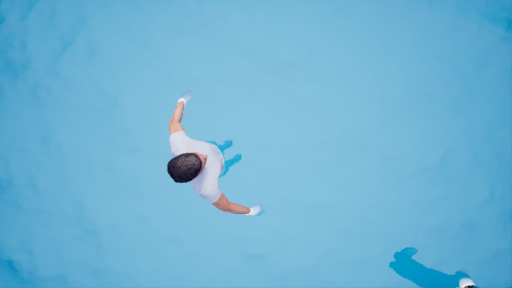person: (160, 90, 269, 231)
